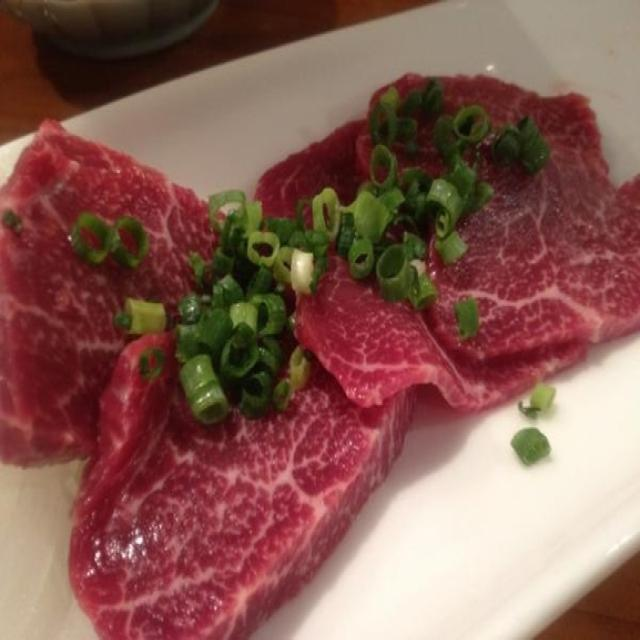刺身生食: (10, 53, 633, 628)
